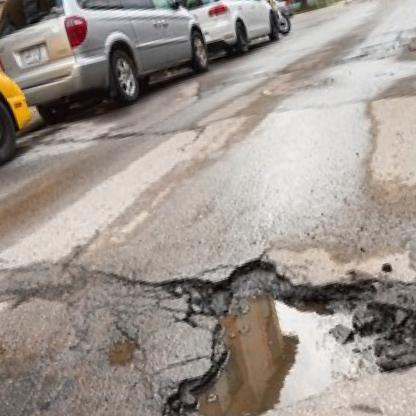pothole: (125, 219, 416, 416)
